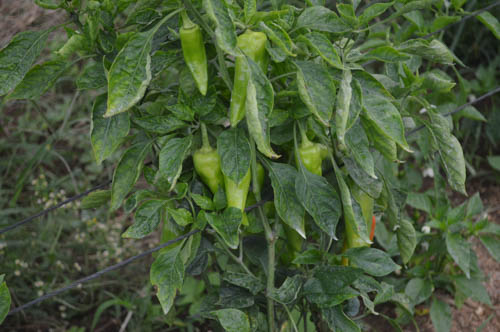ChiliPepper: (224, 34, 268, 127), (182, 28, 213, 93), (346, 189, 376, 248), (224, 166, 251, 223), (197, 149, 222, 193), (298, 146, 324, 184)
